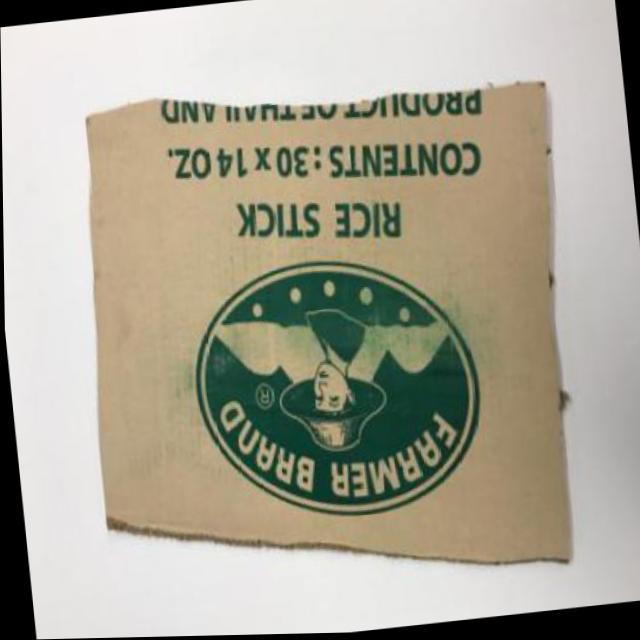box: (56, 45, 610, 625)
